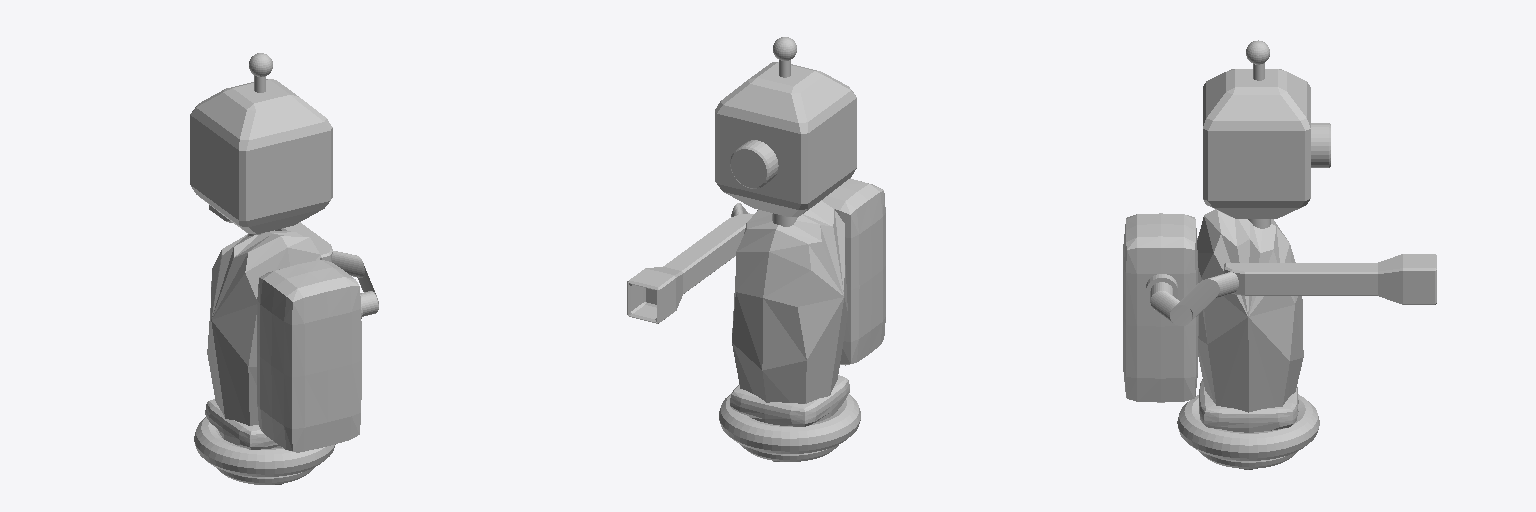
File: robot_plasma.obj
3 views of the same model, side by side, from view 1: azimuth 30°, elevation 25°; view 2: azimuth 150°, elevation 25°; view 3: azimuth 270°, elevation 25° (orthographic).
Visible parts, largest first — view 1: Cube.004, Cube.001, Cube, Torus, Cube.002, Cylinder.002, Cube.003, Torus.001; view 2: Cube, Cube.001, Cube.004, Cube.003, Torus, Cube.002, Cylinder.001, Torus.001; view 3: Cube, Cube.001, Cube.004, Cube.003, Torus, Cylinder.002, Cube.002, Cylinder.001, Torus.001.
Boxes of the visible parts, x1,y1,x2,y2 form: Cube.004: [257, 260, 361, 452]; Cube.001: [190, 79, 332, 234]; Cube: [207, 230, 319, 425]; Torus: [194, 417, 335, 476]; Cube.002: [205, 399, 283, 484]; Cylinder.002: [332, 251, 378, 318]; Cube.003: [209, 205, 332, 261]; Torus.001: [217, 467, 314, 484]; Cube: [732, 201, 847, 403]; Cube.001: [715, 62, 856, 216]; Cube.004: [821, 178, 885, 365]; Cube.003: [627, 213, 753, 323]; Torus: [719, 393, 860, 453]; Cube.002: [730, 375, 849, 461]; Cylinder.001: [730, 140, 778, 188]; Torus.001: [740, 444, 838, 461]; Cube: [1197, 209, 1303, 412]; Cube.001: [1203, 69, 1310, 218]; Cube.004: [1123, 213, 1198, 402]; Cube.003: [1224, 254, 1436, 304]; Torus: [1177, 394, 1319, 460]; Cylinder.002: [1146, 272, 1238, 325]; Cube.002: [1199, 379, 1298, 469]; Cylinder.001: [1311, 123, 1330, 167]; Torus.001: [1199, 451, 1297, 468].
Bounding box in the file's own units: 2.09 × 6.2 × 4.18.